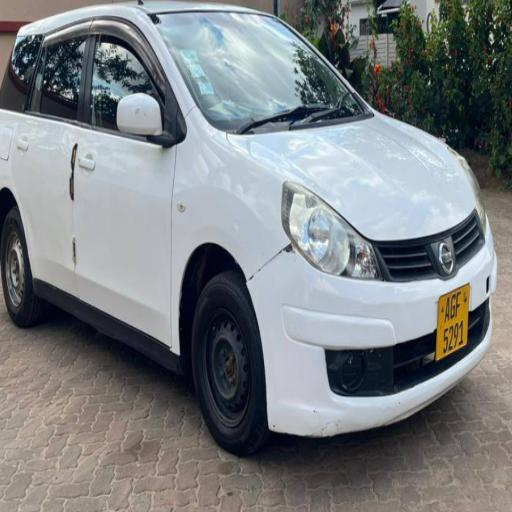number-plates: (438, 288, 468, 356)
